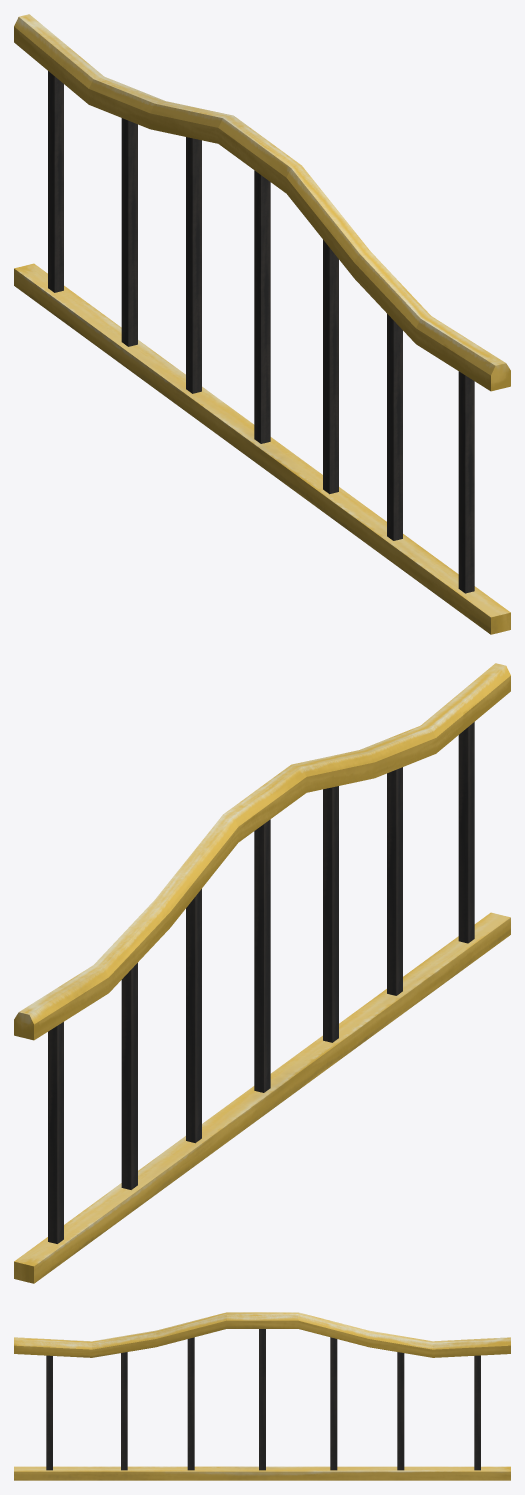
The model's file is fence.fbx.
The picture shows the model from 3 angles, top to bottom: view 1: azimuth 30°, elevation 25°; view 2: azimuth 150°, elevation 25°; view 3: azimuth 270°, elevation 25°; orthographic projection. The views are drawn at different scales.
Parts seen in each view (by area): view 1: Box092; view 2: Box092; view 3: Box092.
Boxes of the visible parts, bbox=[...] form: Box092: bbox=[14, 14, 510, 634]; Box092: bbox=[14, 663, 510, 1283]; Box092: bbox=[14, 1312, 510, 1480].
Bounding box in the file's own units: 0.6085 × 9.15 × 25.02.
1 material, 1 textured.
